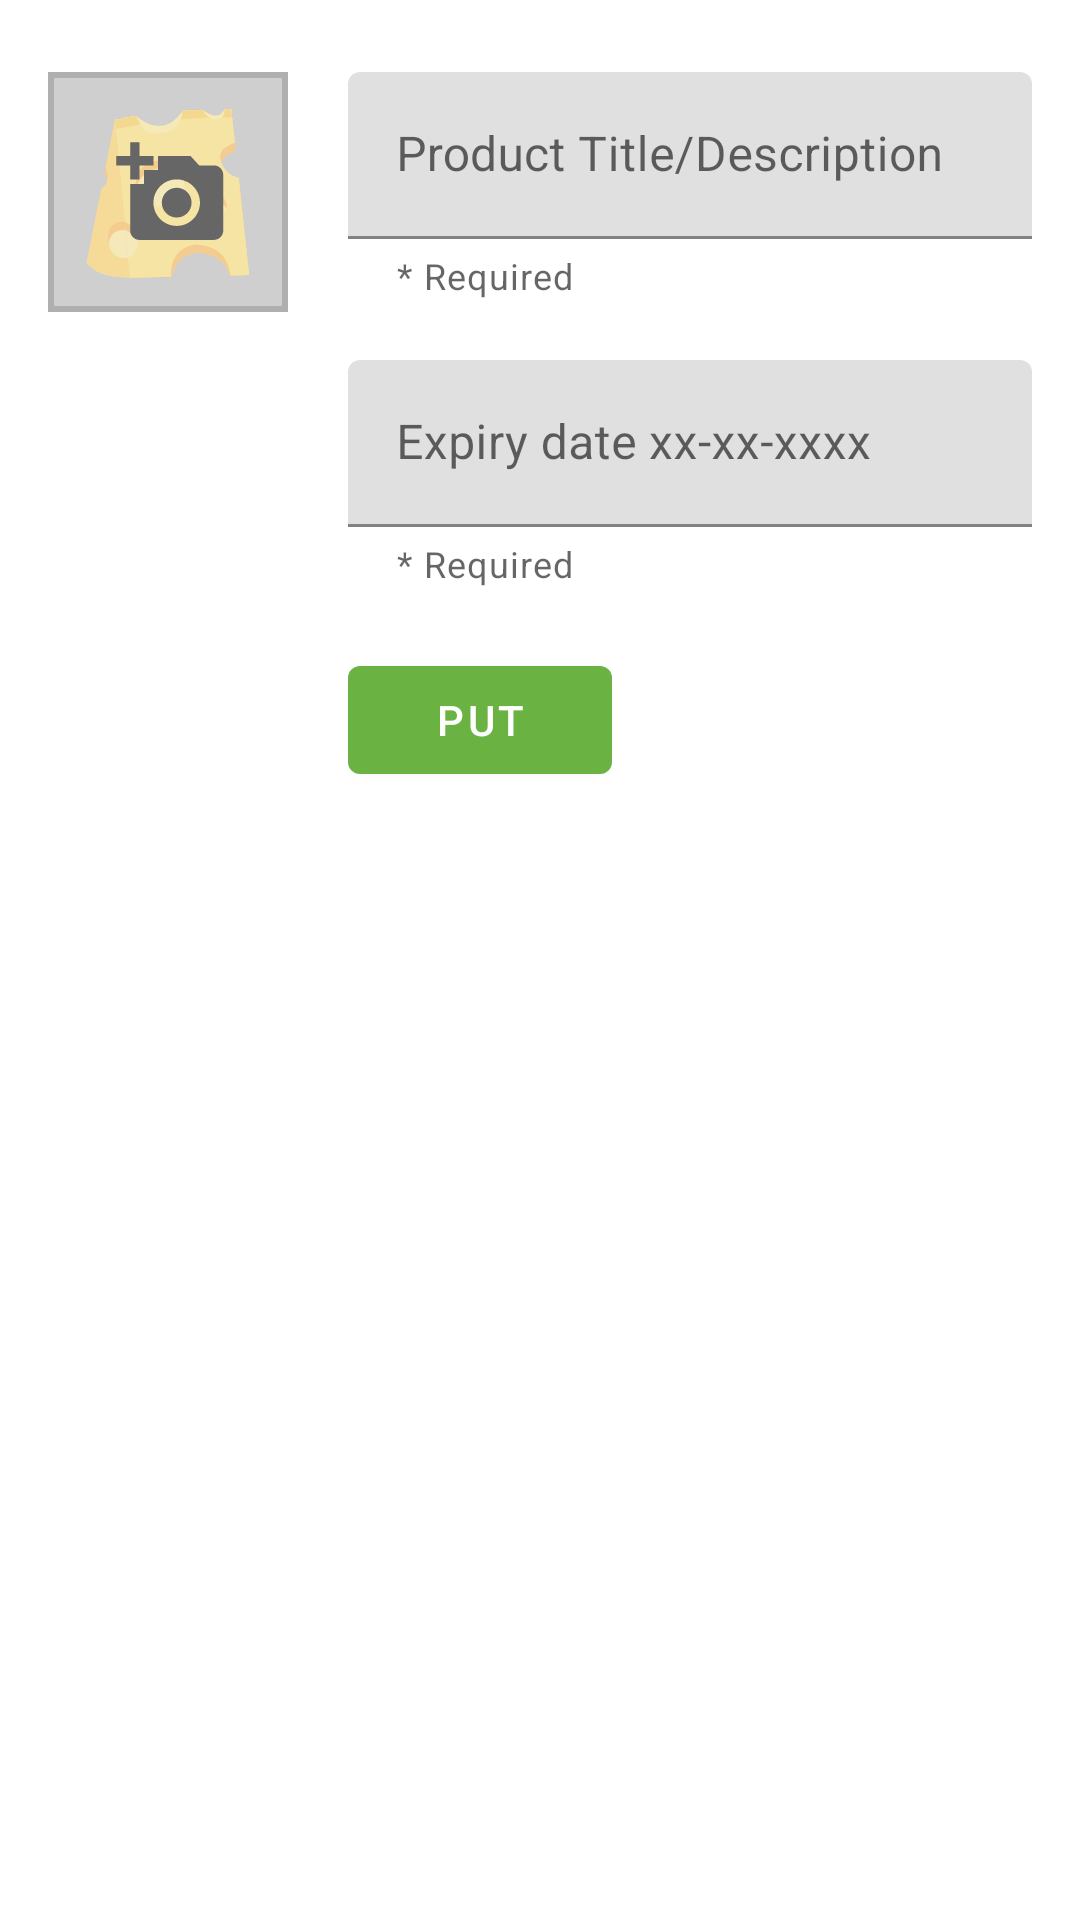

Where to tap for icons on this 1080*1920 app screen, as (x=x, y=y):
food: (x=168, y=192)
